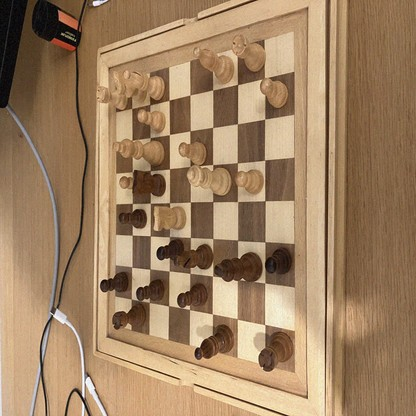bishop_black: (196, 326, 235, 361), (175, 245, 213, 270)
bishop_white: (194, 49, 235, 83), (124, 69, 165, 100)
king_black: (215, 254, 263, 282)
king_white: (114, 139, 164, 165)
knight_black: (132, 170, 166, 197)
knight_white: (112, 72, 146, 103), (153, 206, 187, 232)
pawn_black: (177, 285, 207, 307), (266, 249, 291, 274), (100, 271, 129, 292), (156, 240, 184, 260), (137, 280, 164, 300), (119, 211, 148, 229)
pawn_white: (261, 79, 289, 109), (236, 169, 264, 194), (137, 109, 165, 133), (179, 142, 206, 164)
queen_white: (187, 167, 232, 195)
rock_black: (258, 333, 294, 371), (112, 302, 145, 330)
rock_white: (233, 35, 266, 72), (96, 86, 127, 110)
